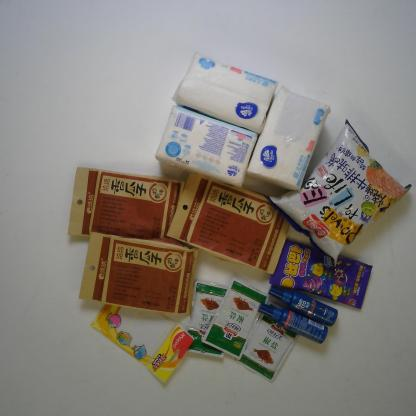Candy: (268, 233, 374, 310)
Dried Food: (166, 171, 294, 275), (67, 166, 203, 246), (78, 232, 199, 316)
Personal Hygiene: (266, 282, 338, 328), (256, 301, 330, 344)
Puffed Food: (262, 118, 412, 272)
Seasoner: (232, 298, 300, 385), (201, 277, 268, 362), (182, 277, 231, 360)
Stationery: (88, 282, 195, 386)
Tissue: (244, 85, 334, 194), (173, 52, 281, 138), (154, 104, 257, 189)
